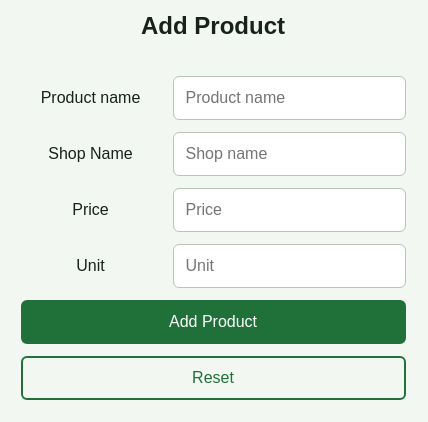
Test: AddProductForm › resets entered values
Type "Milk" into the field labelled "Product name" at (289, 98), box [172,76,406,120]
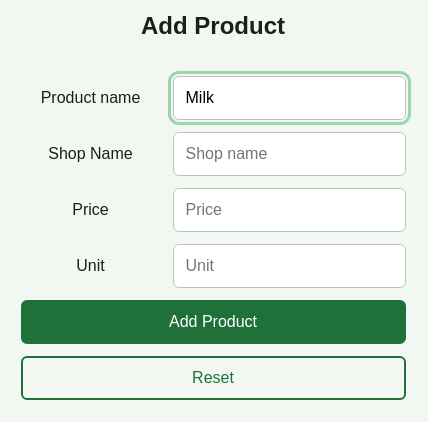
Type "ICA" into the field labelled "Shop Name" at (289, 154), box [172,132,406,176]
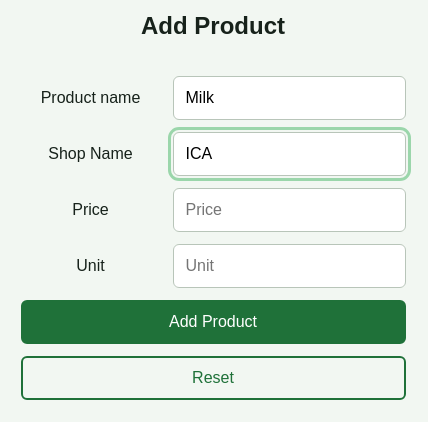
Type "10.9" into the number field labelled "Price" at (289, 210), box [172,188,406,232]
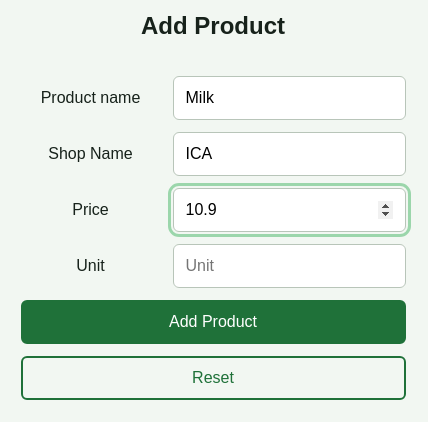
Type "1L" into the field labelled "Unit" at (289, 266), box [172,244,406,288]
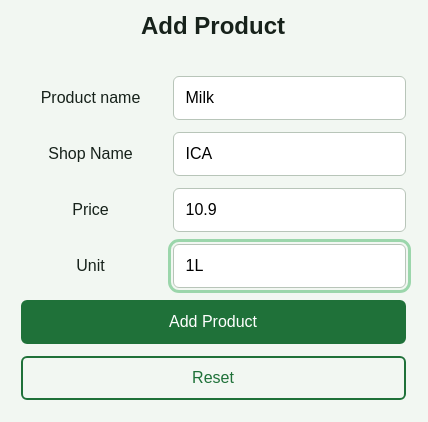
Click the button "Reset" at (213, 378), box [20,356,406,400]
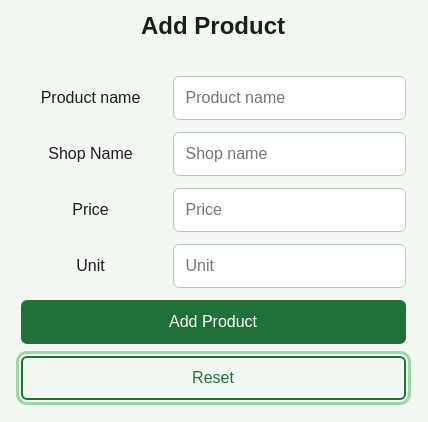
Expected: the field labelled "Product name" is empty, [172,76,406,120]
Expected: the field labelled "Shop Name" is empty, [172,132,406,176]
Expected: the number field labelled "Price" is not empty, [172,188,406,232]
